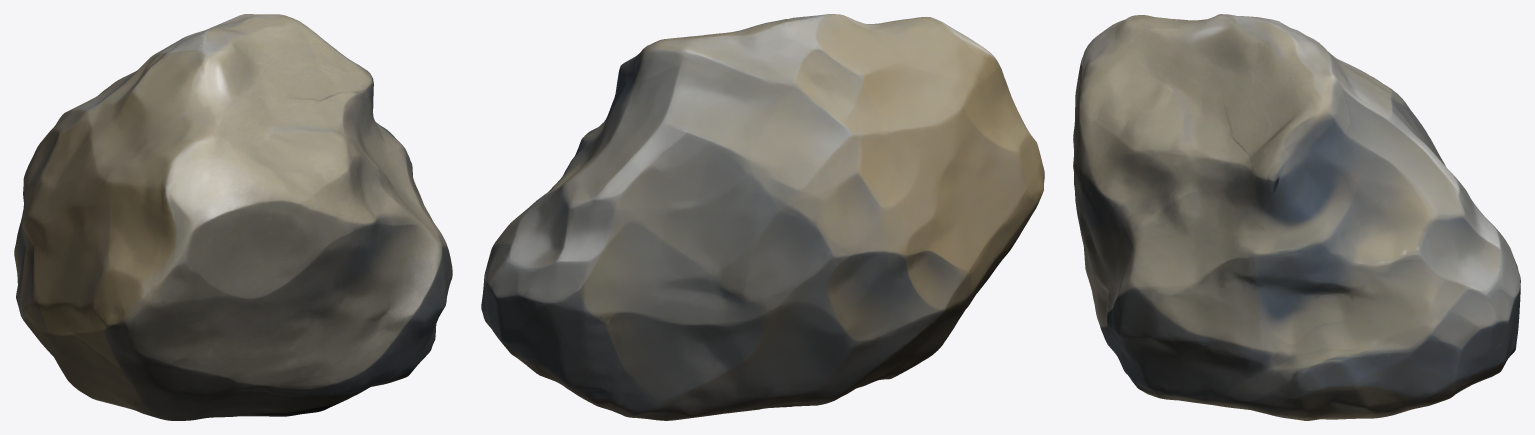
Rendered from AI_RiverStone.fbx.
3 renders of one model, left to right at view 1: azimuth 30°, elevation 25°; view 2: azimuth 150°, elevation 25°; view 3: azimuth 270°, elevation 25°, orthographic. The views are drawn at different scales.
Parts seen in each view (by area): view 1: Mesh1.0; view 2: Mesh1.0; view 3: Mesh1.0.
Part boxes in pixels (left/top/right/bottom): Mesh1.0: left=14, top=14, right=452, bottom=420; Mesh1.0: left=481, top=14, right=1044, bottom=420; Mesh1.0: left=1073, top=14, right=1520, bottom=420.
Bounding box in the file's own units: 200 × 157 × 196.
1 material, 1 textured.
